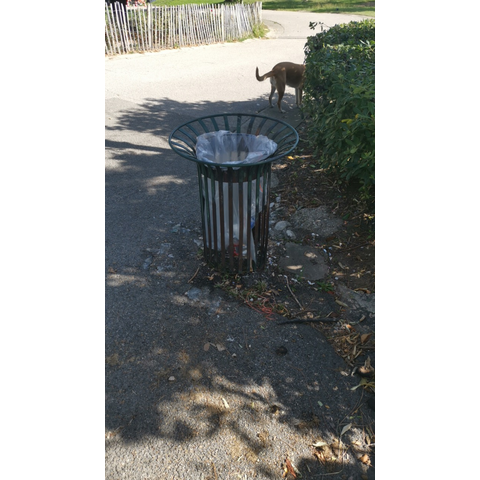poubelle: (168, 109, 313, 276)
